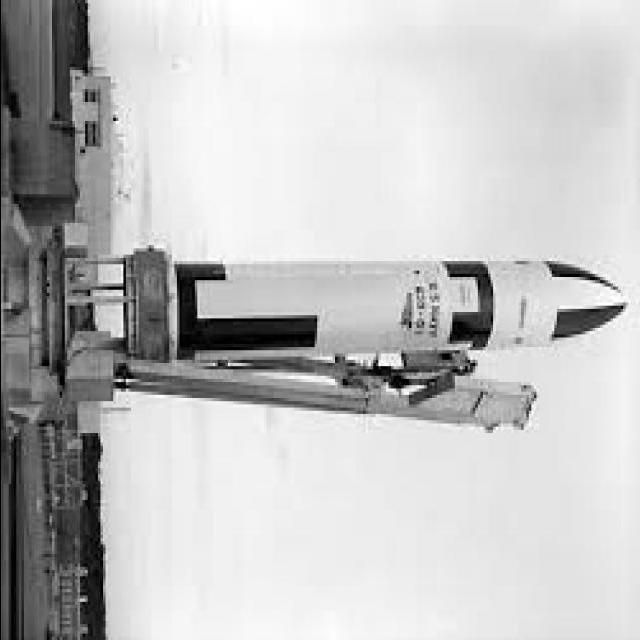missile: (160, 243, 634, 365)
